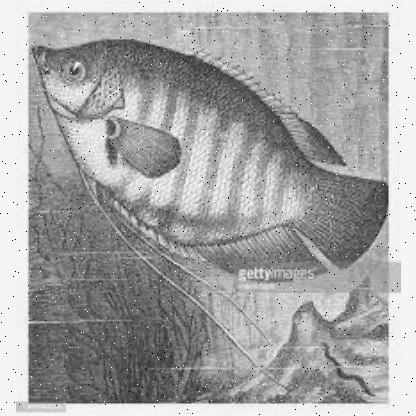gurame: (29, 30, 389, 278)
